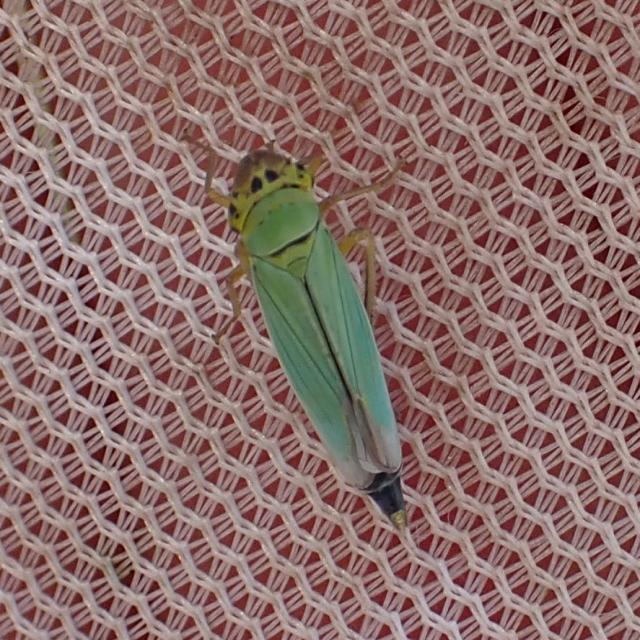wereng pada daun padi: (202, 137, 413, 535)
